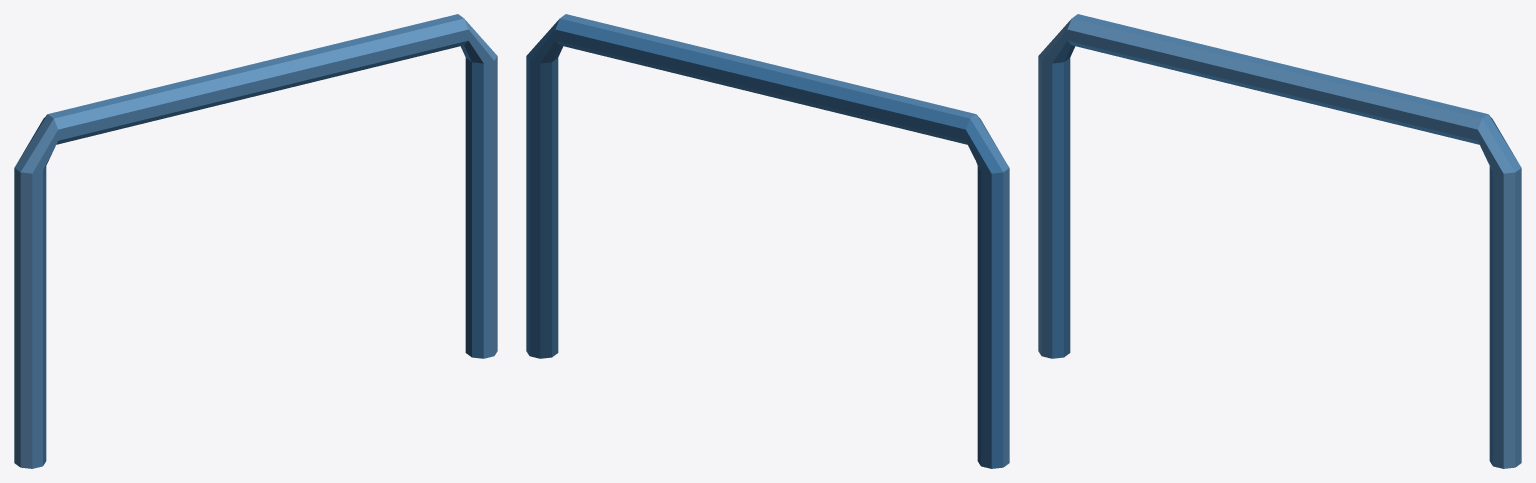
File: baranda.fbx
The picture shows the model from 3 angles, left to right: view 1: azimuth 30°, elevation 25°; view 2: azimuth 150°, elevation 25°; view 3: azimuth 330°, elevation 25°; orthographic projection.
Parts seen in each view (by area): view 1: 1_1; view 2: 1_1; view 3: 1_1.
Boxes of the visible parts, x1,y1,x2,y2 form: 1_1: (14, 14, 497, 468); 1_1: (526, 14, 1009, 468); 1_1: (1038, 14, 1521, 468).
Bounding box in the file's own units: 58.12 × 39.69 × 3.12.
1 material, 1 textured.
